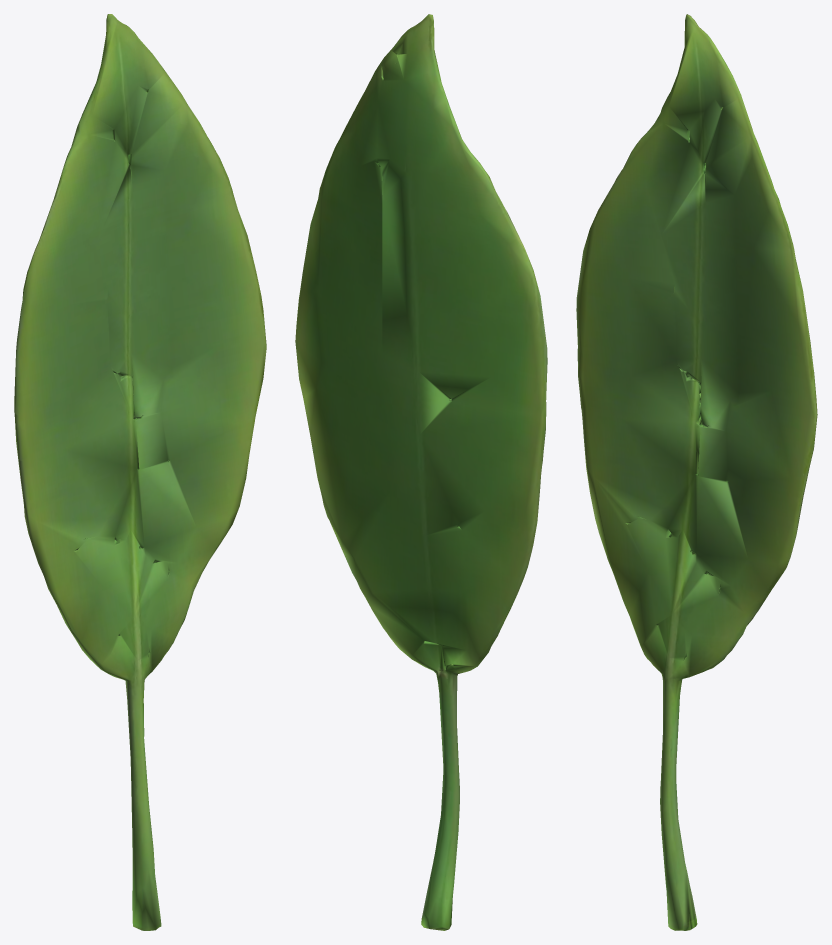
Rendered from mongodb-transformed-7vqgzj1n.glb.
3 renders of one model, left to right at view 1: azimuth 30°, elevation 25°; view 2: azimuth 150°, elevation 25°; view 3: azimuth 330°, elevation 25°, orthographic. The views are drawn at different scales.
Visible parts, largest first — view 1: Mesh1; view 2: Mesh1; view 3: Mesh1.
Boxes of the visible parts, box(x1,y1,x2,y2) form: Mesh1: box(14, 14, 266, 930); Mesh1: box(295, 14, 547, 930); Mesh1: box(576, 14, 817, 930).
Bounding box in the file's own units: 0.5732 × 2 × 0.1456.
Materials: 1 (1 with a texture image).
